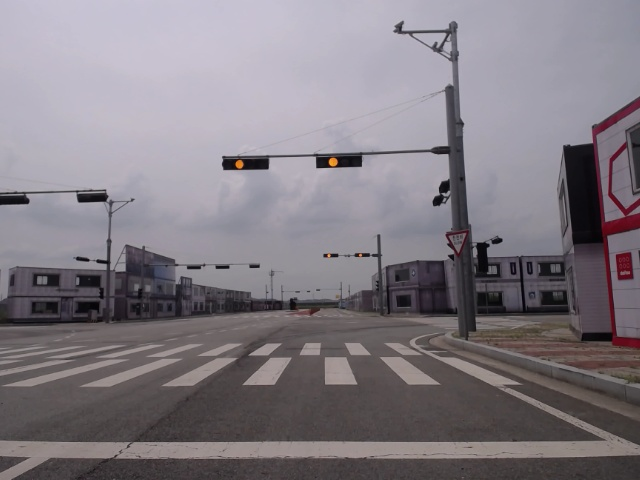orange_4: (221, 156, 270, 171), (315, 156, 363, 167), (352, 250, 372, 260), (321, 253, 340, 258)
